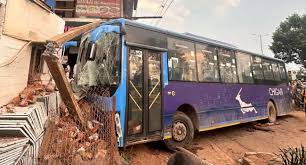Chigari: (75, 22, 301, 136)
